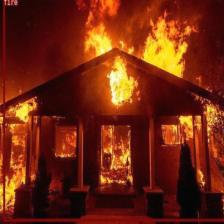fire: (3, 0, 224, 221)
